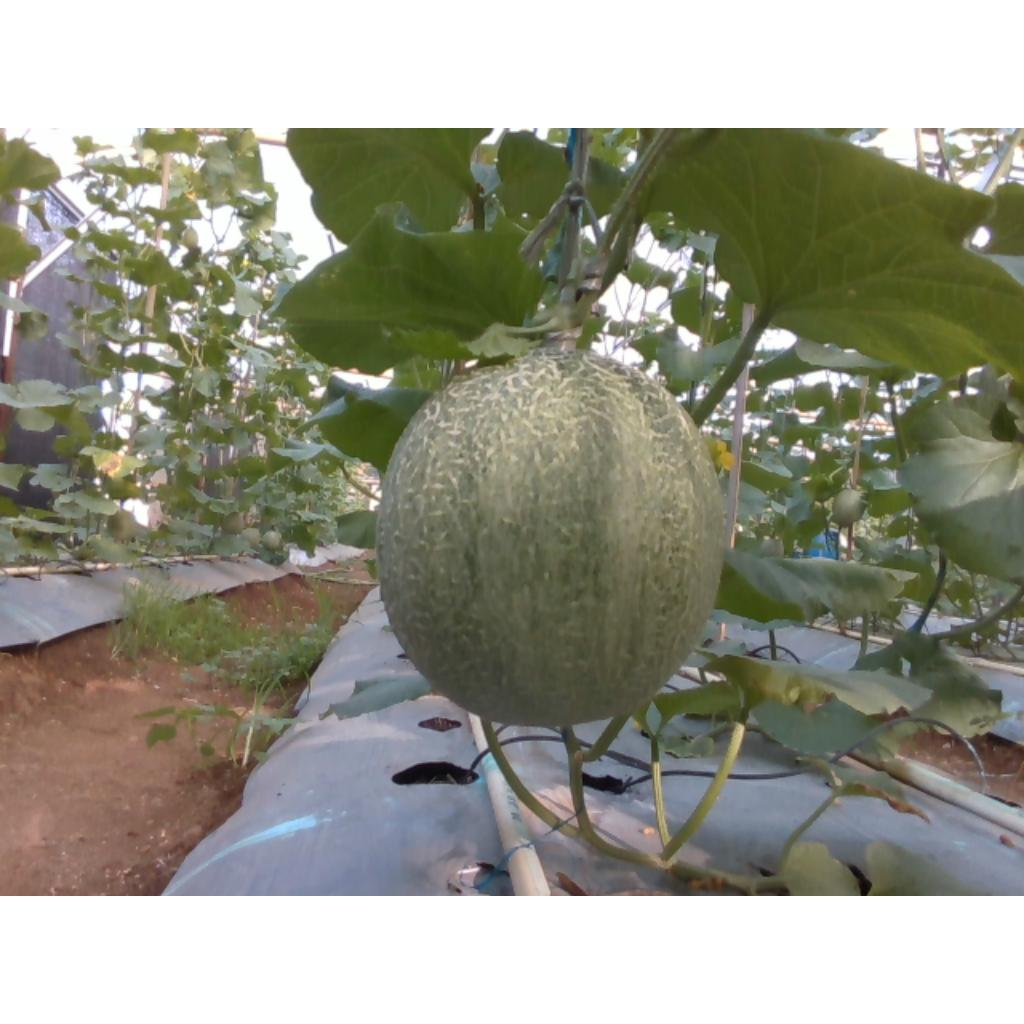melon: (378, 350, 725, 727)
